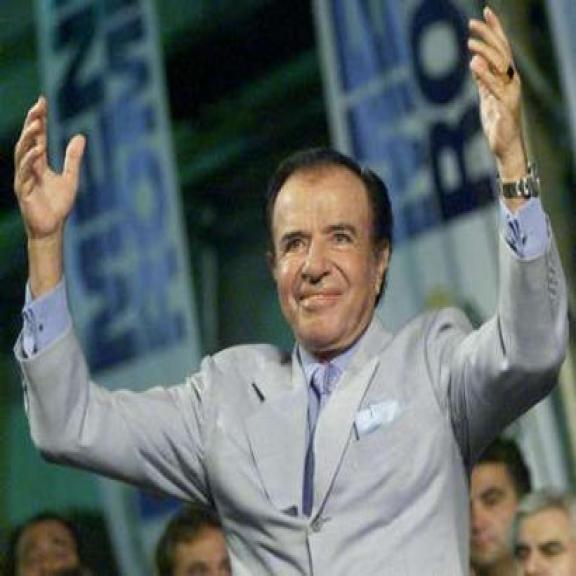face: (272, 184, 390, 349), (466, 457, 520, 567), (520, 509, 568, 576)
